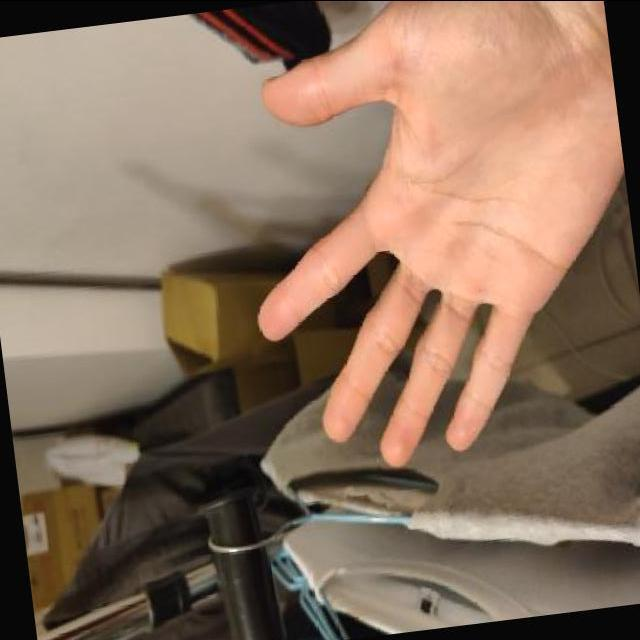hand: (255, 2, 626, 472)
